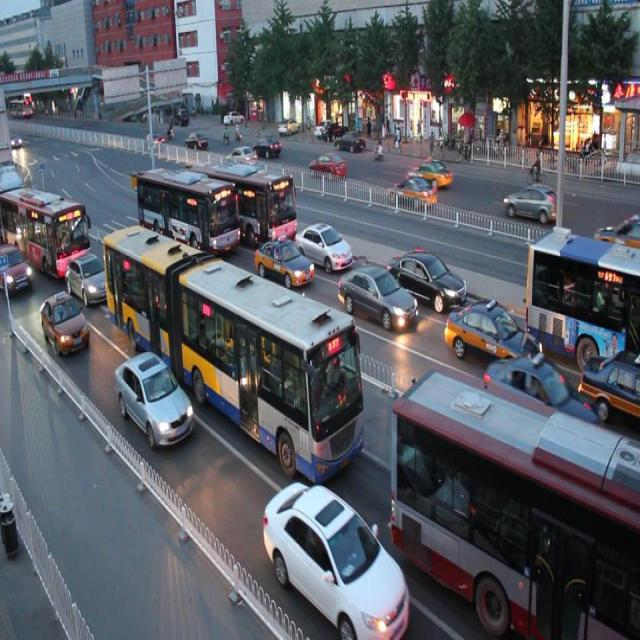car: (261, 476, 408, 640), (483, 356, 606, 466), (446, 294, 544, 382), (114, 351, 196, 451), (337, 258, 416, 331), (390, 243, 468, 309), (578, 348, 640, 425), (253, 230, 314, 289), (294, 214, 352, 273), (39, 290, 90, 356), (66, 253, 116, 308), (0, 240, 32, 299)
van: (102, 218, 366, 482), (390, 367, 640, 640), (524, 225, 640, 360), (191, 153, 298, 248), (135, 162, 240, 254), (1, 182, 90, 272)
